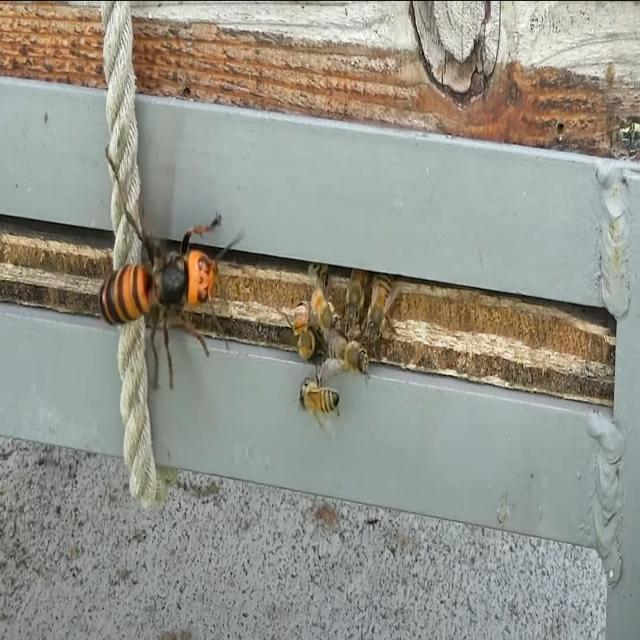Wasp: (89, 145, 235, 399)
